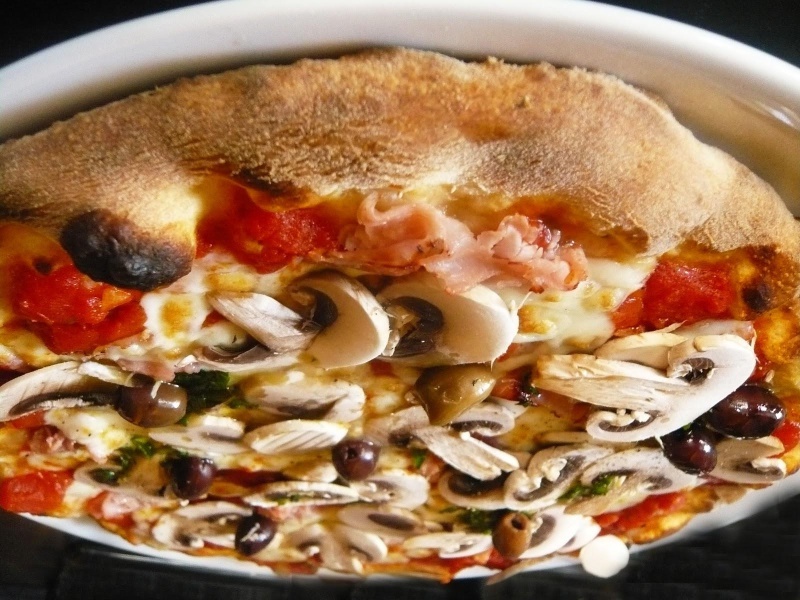champignon: (524, 323, 759, 445), (385, 270, 524, 372), (282, 268, 393, 384), (3, 353, 122, 424), (285, 519, 392, 578), (705, 428, 798, 492)
olive: (412, 361, 511, 435), (698, 375, 799, 447), (109, 378, 197, 434), (652, 422, 722, 484), (156, 446, 225, 504), (319, 434, 390, 485), (230, 509, 286, 562), (483, 508, 537, 561)
